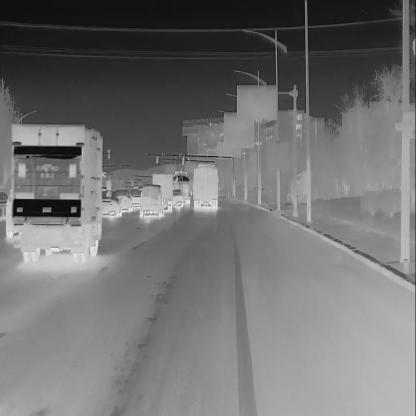car: (139, 181, 164, 217), (110, 190, 133, 214), (101, 195, 124, 216), (128, 187, 142, 207), (172, 187, 183, 206)
truck: (4, 116, 105, 264), (191, 160, 221, 212), (150, 171, 174, 213), (171, 169, 191, 205)
